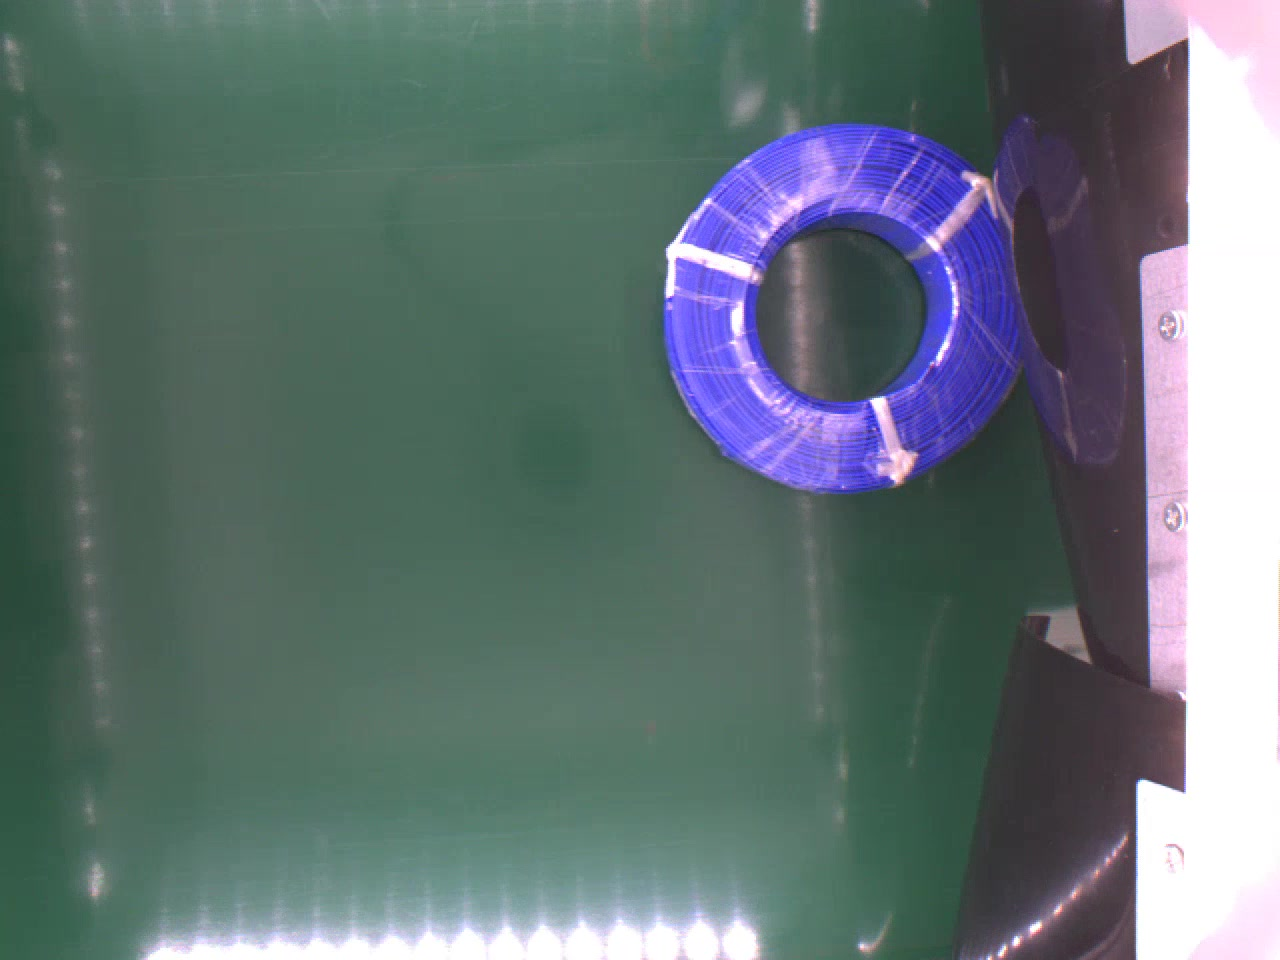blue: (666, 121, 1030, 496)
